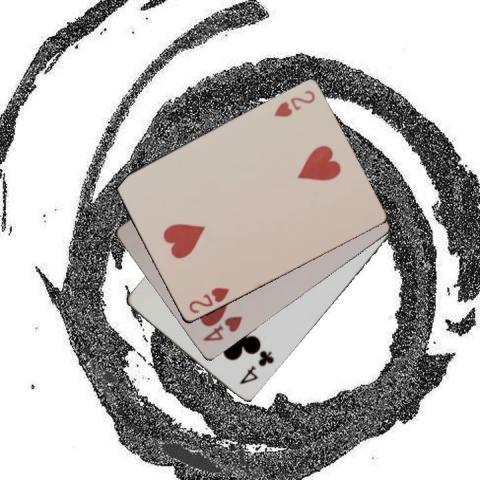2h: (270, 88, 317, 120), (185, 285, 231, 315)
4c: (237, 348, 275, 386)
4h: (199, 313, 244, 343)
